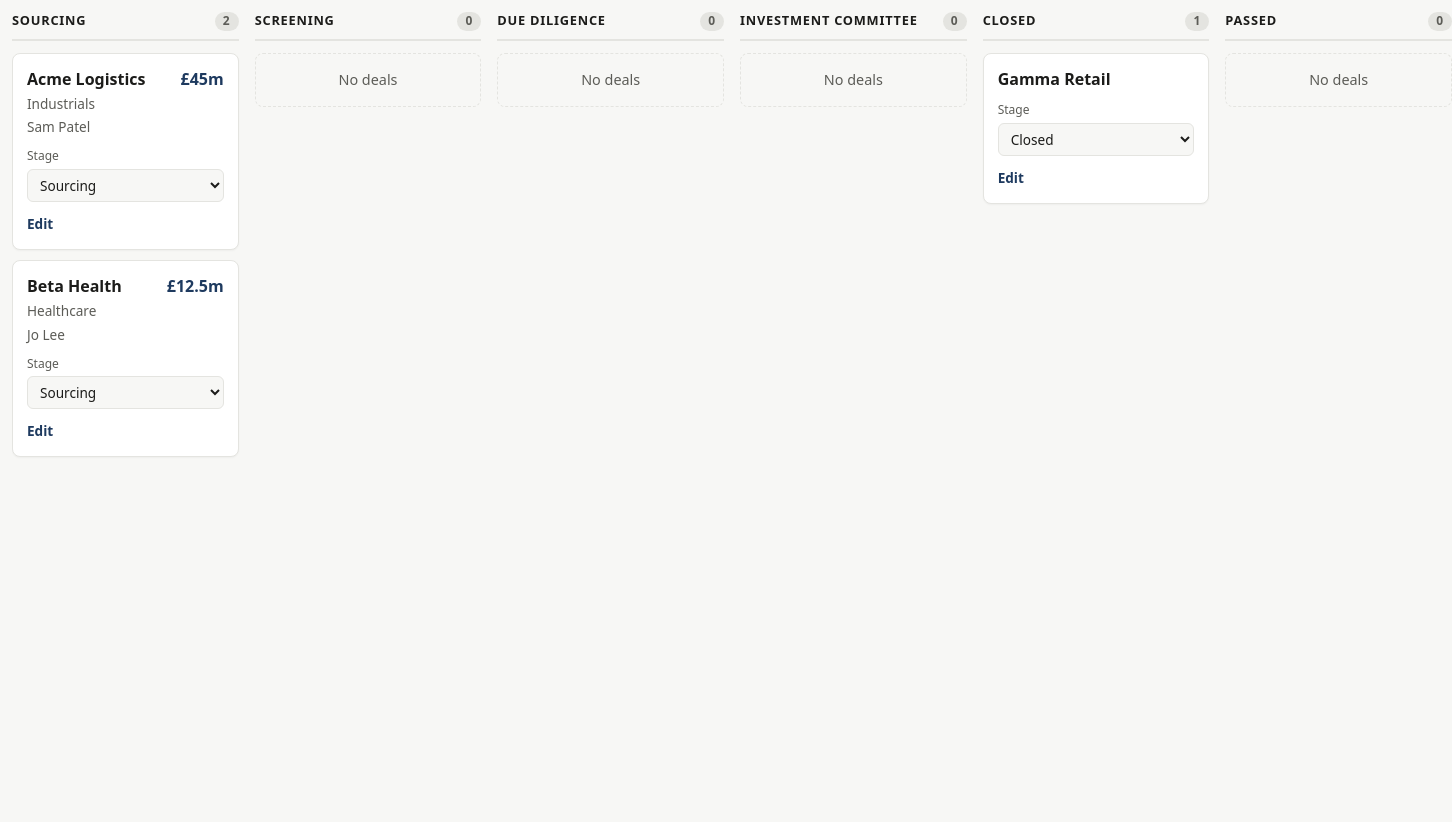
Test case: PipelineBoard editing › opens the form on that card only
The image size is (1452, 822).
Step 1. Click the button named "Edit Beta Health" → (40, 431), box [27,419,53,442]
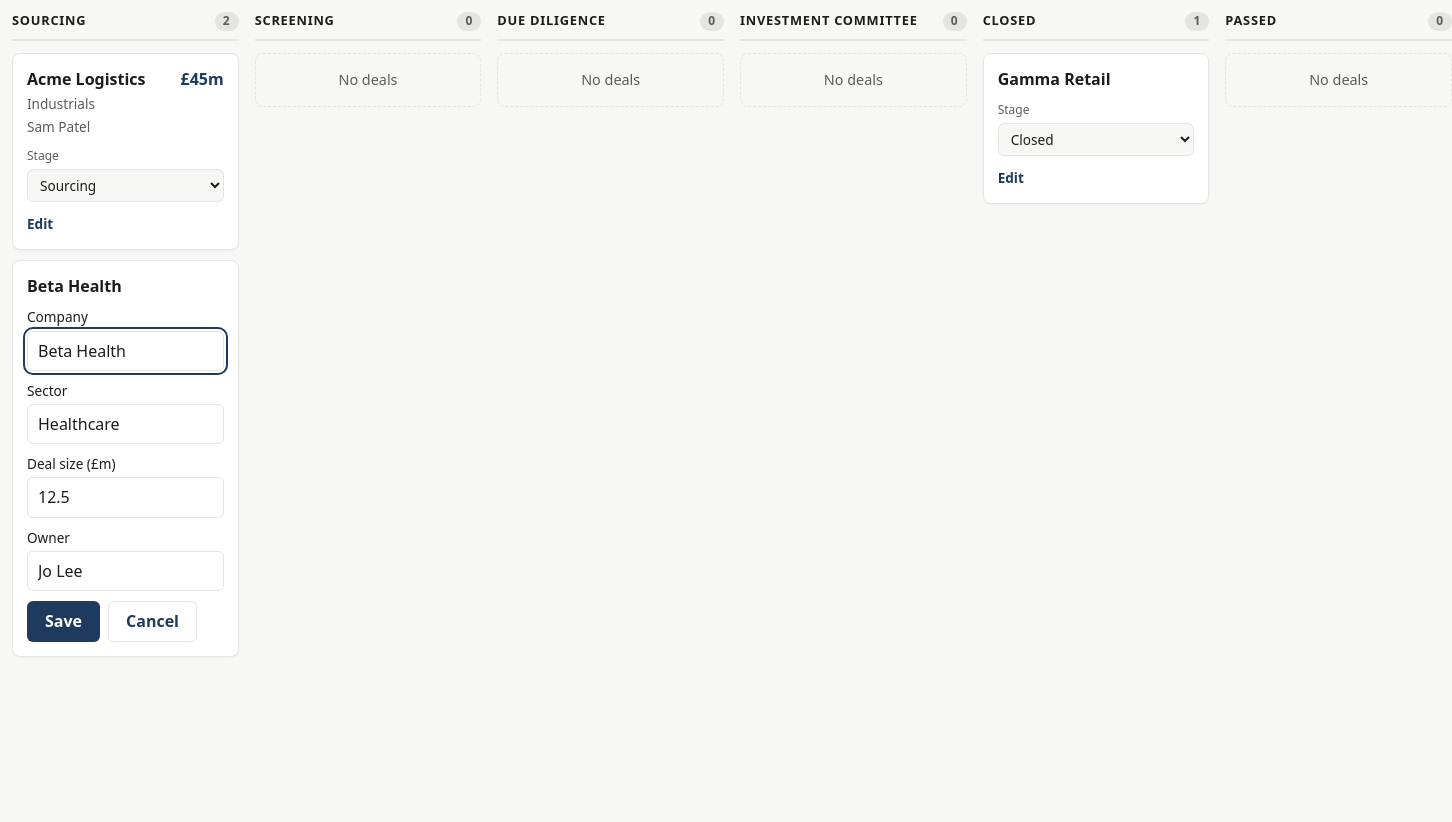
Expected: the dropdown named "Stage for Acme Logistics" is shown, [27,169,224,202]
Result: the number of forms is 1 at [27,308,224,642]
